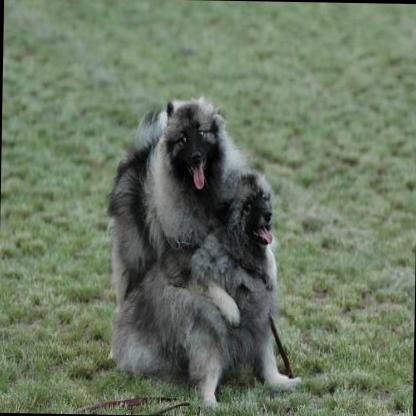keeshond: (104, 162, 302, 406), (110, 95, 250, 322)
